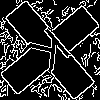K: (25, 25, 80, 81)
